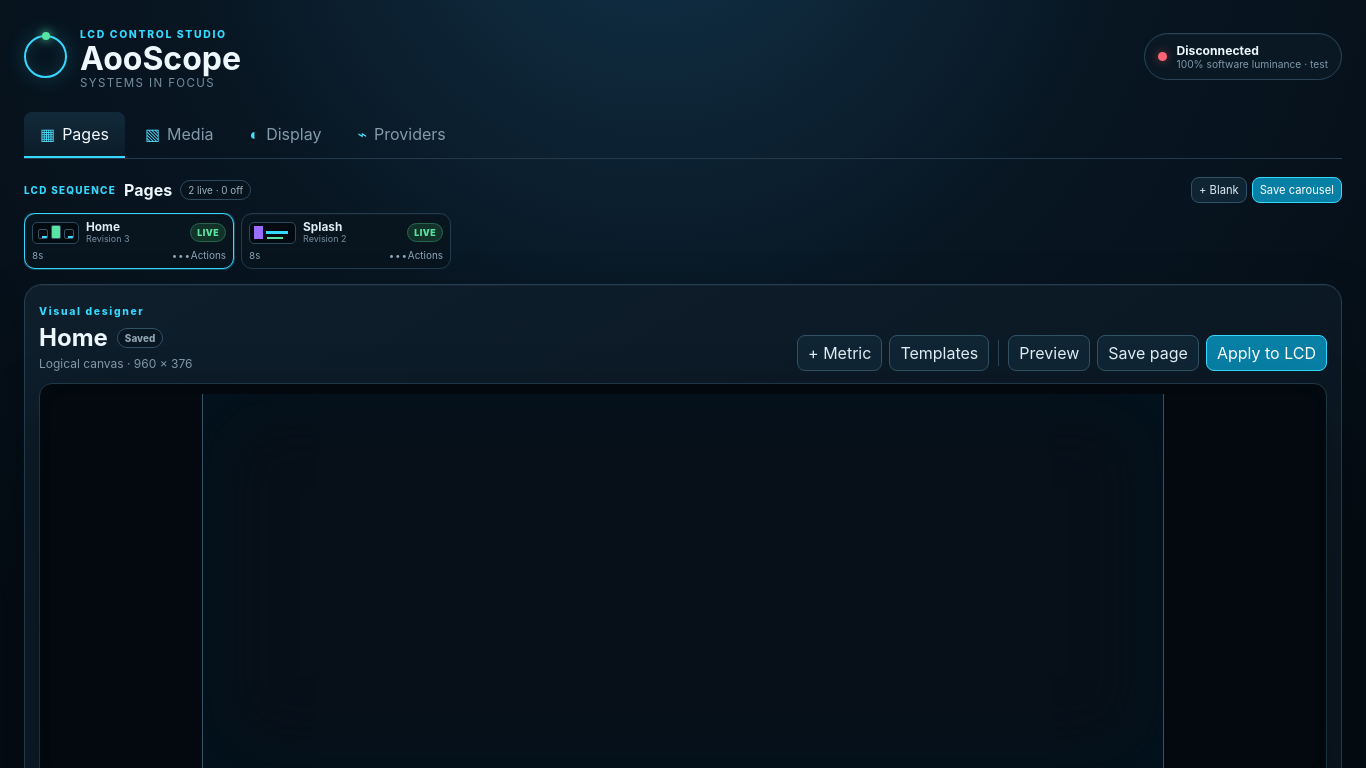
Test case: admin page persistence › creates a template through template_id and selects the returned page
Check: the heading "Home" is shown, box [39, 323, 108, 352]
Click the button "Templates". click: (939, 353)
box: [889, 335, 989, 371]
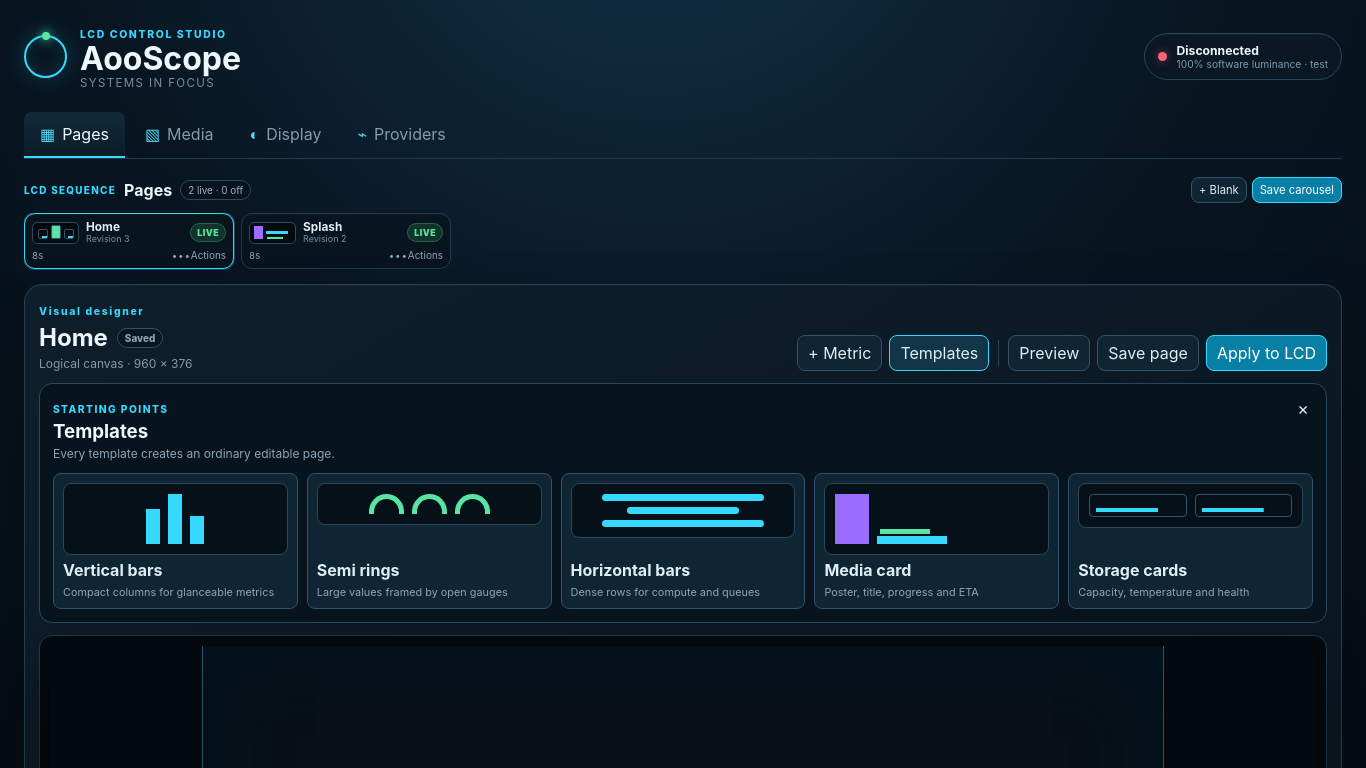
Click the button "Semi rings Large values framed by open gauges". click: (429, 541)
box: [307, 473, 552, 609]
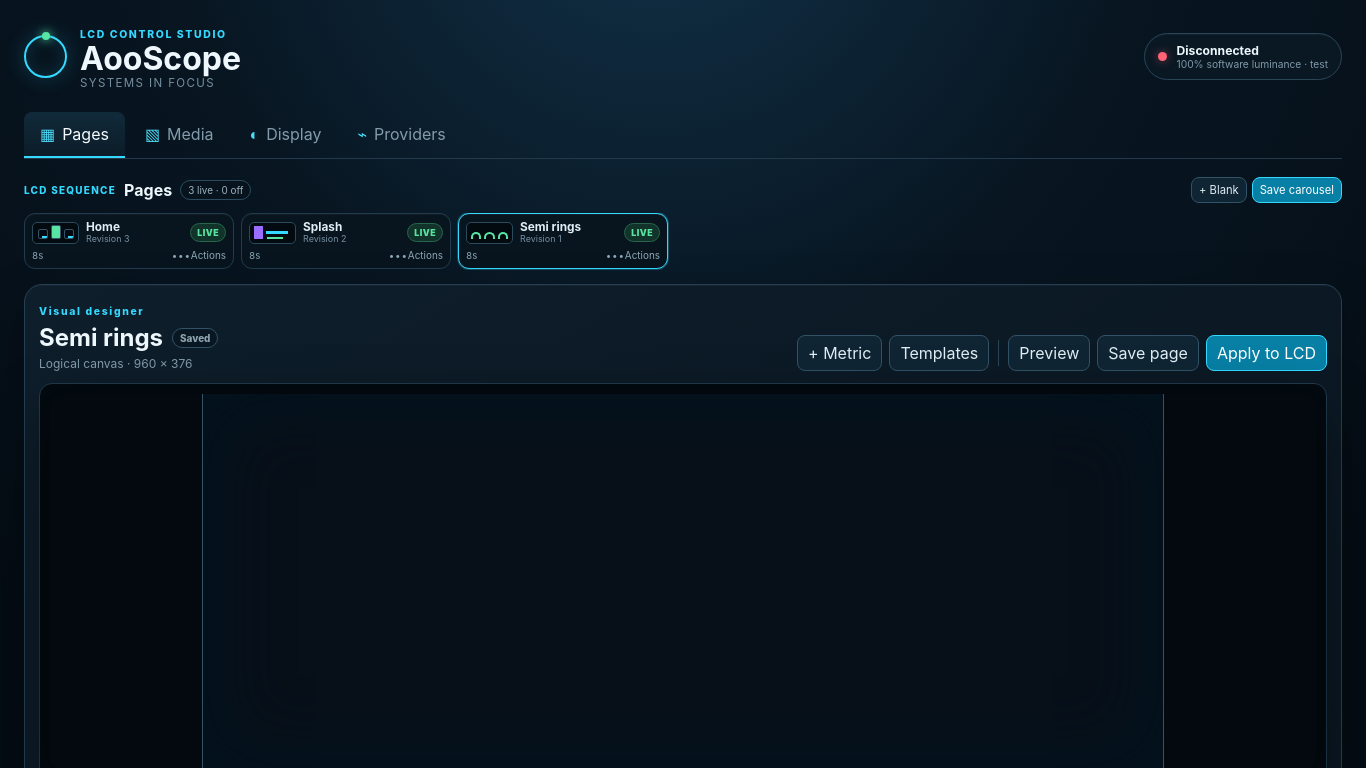
Check: the heading "Semi rings" is shown, box [39, 323, 163, 352]
